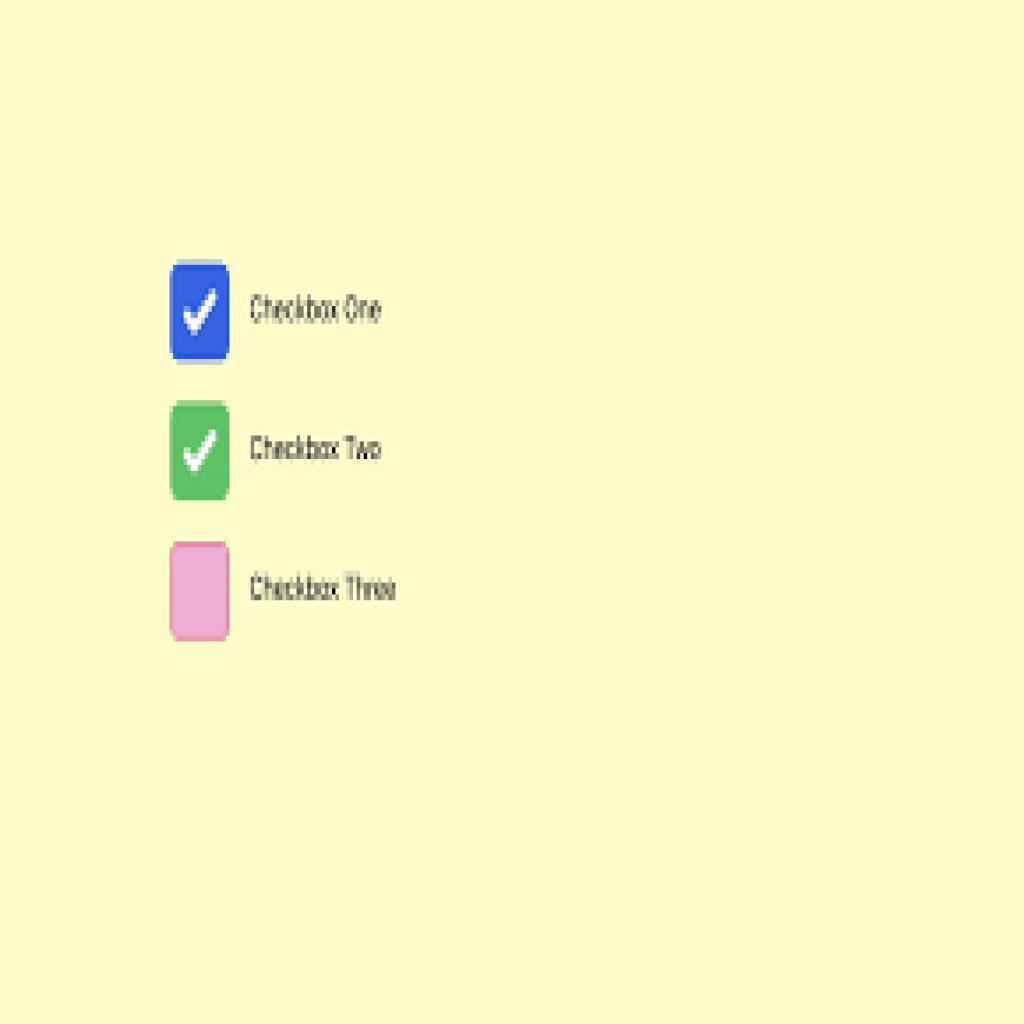checkbox: (173, 548, 233, 643), (172, 264, 229, 363), (173, 401, 230, 498)
label: (252, 567, 402, 610), (245, 289, 390, 332), (251, 429, 384, 471)
